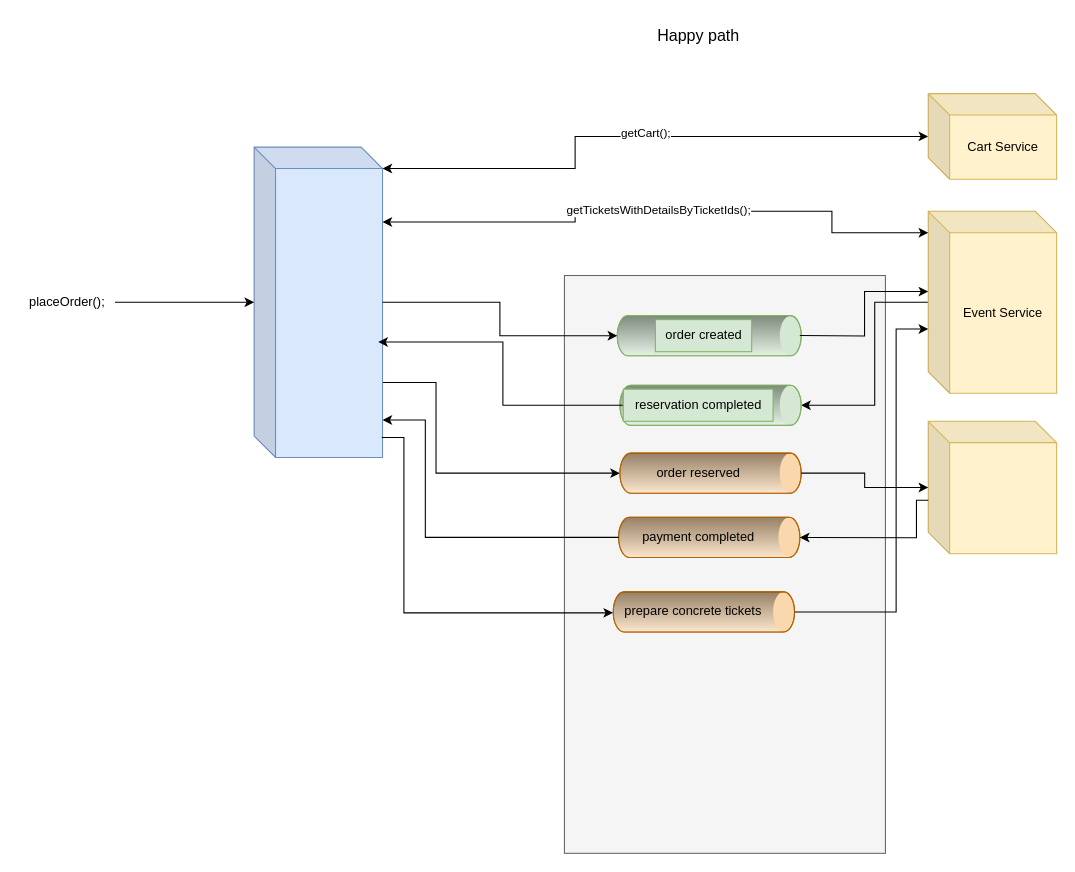
The diagram is 1075 pixels wide and 872 high, and some of its shapes have lost their labels. Each missing label, with the box of its shape:
Message broker: (563, 274, 885, 853)
Order Service: (253, 146, 383, 457)
Payment Service: (927, 420, 1057, 554)
